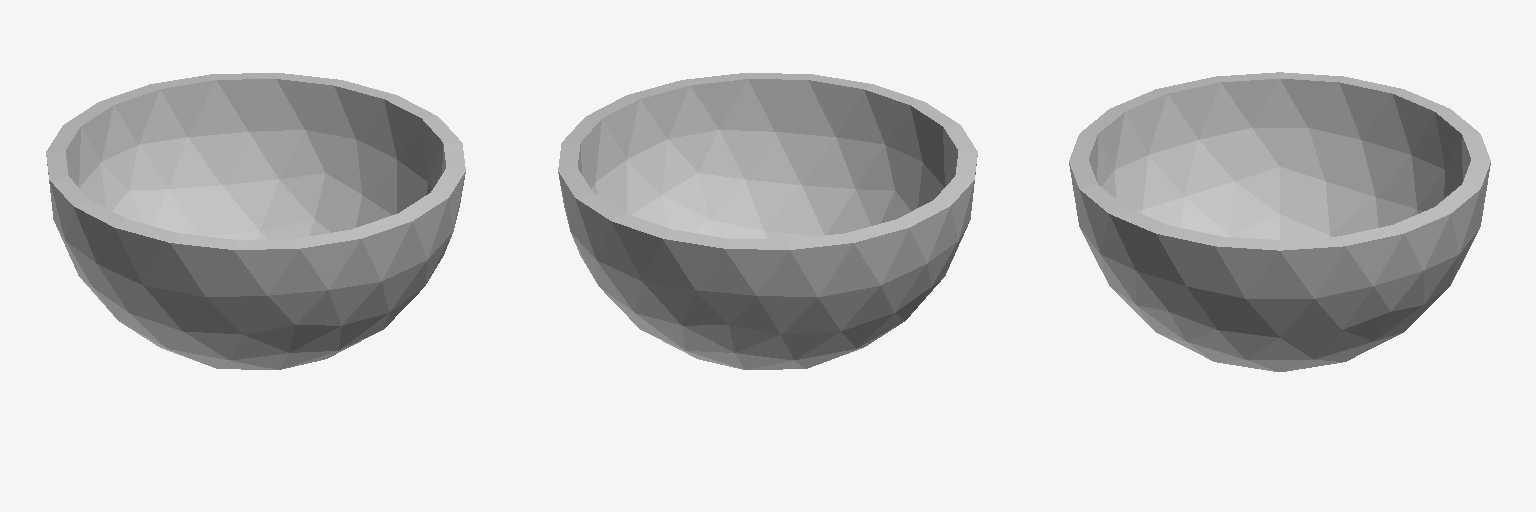
File: ShellHemi.obj
The picture shows the model from 3 angles: view 1: azimuth 30°, elevation 25°; view 2: azimuth 150°, elevation 25°; view 3: azimuth 270°, elevation 25°; orthographic projection.
Visible parts, largest first — view 1: Shell; view 2: Shell; view 3: Shell.
Boxes of the visible parts, box(x1,y1,x2,y2) form: Shell: box(46, 73, 465, 369); Shell: box(558, 73, 977, 369); Shell: box(1069, 72, 1490, 371).
Size of the model in its own units: 0.54 by 0.2732 by 0.54.